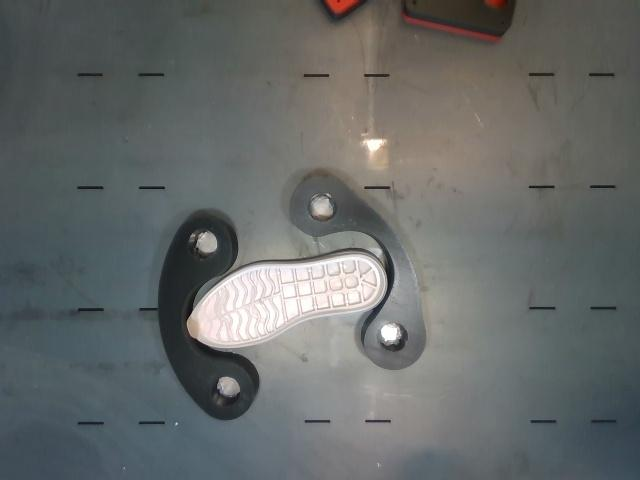shoes: (188, 255, 384, 347)
